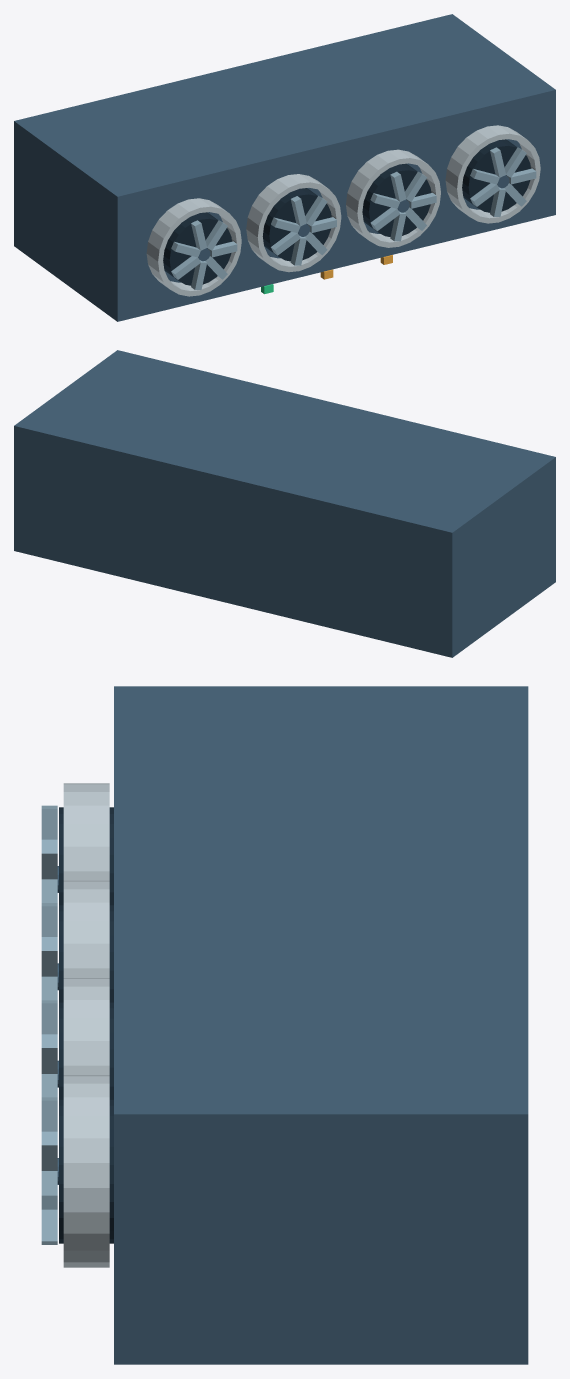
File: 59_L80_PhotonicCoolingAirManifold.fbx
3 views of the same model, one above another, from view 1: azimuth 30°, elevation 25°; view 2: azimuth 150°, elevation 25°; view 3: azimuth 270°, elevation 25° (orthographic). The views are drawn at different scales.
Visible parts, largest first — view 1: PhotonicCoolingAirManifold; view 2: PhotonicCoolingAirManifold; view 3: PhotonicCoolingAirManifold.
Part boxes in pixels (<box>): PhotonicCoolingAirManifold: <box>14,14,555,321</box>; PhotonicCoolingAirManifold: <box>14,350,555,657</box>; PhotonicCoolingAirManifold: <box>41,686,528,1364</box>.
Size of the model in its own units: 220 by 65.8 by 106.
